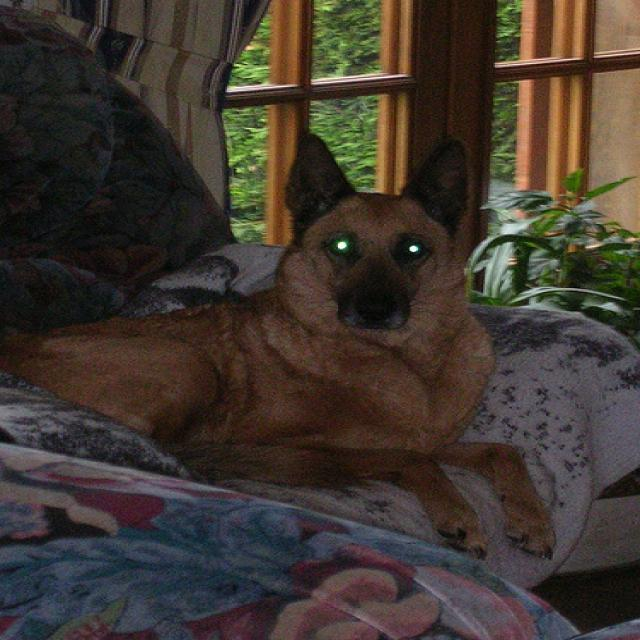Dog: (101, 132, 612, 578)
